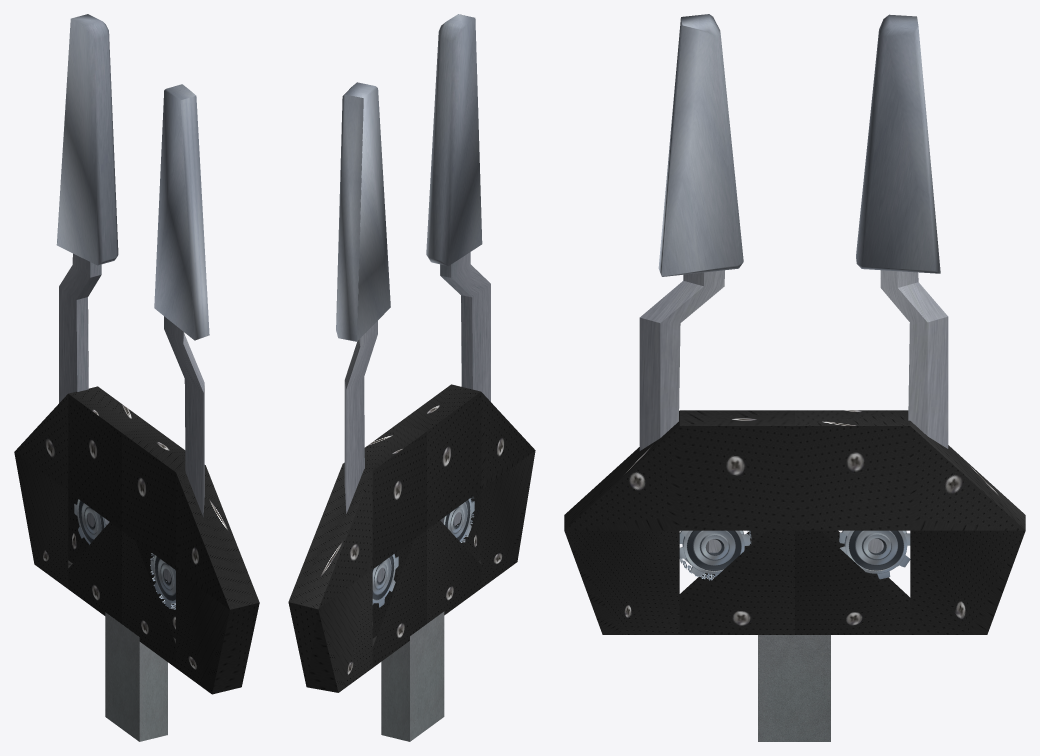
Rendered from FORCEPS.dae.
The picture shows the model from 3 angles, left to right: view 1: azimuth 30°, elevation 25°; view 2: azimuth 150°, elevation 25°; view 3: azimuth 270°, elevation 25°; orthographic projection. The views are drawn at different scales.
Visible parts, largest first — view 1: Cube_030, Cube_024, Cube_038, Cube_040, Cube_036, Cube_037, Cube_029, Cube_028; view 2: Cube_030, Cube_038, Cube_024, Cube_040, Cube_037, Cube_036, Cube_028, Cube_029; view 3: Cube_030, Cube_038, Cube_024, Cube_040, Cube_037, Cube_036, Cube_029, Cube_028.
Boxes of the visible parts, left/top/right/bottom form: Cube_030: left=14, top=386, right=259, bottom=694; Cube_024: left=56, top=14, right=118, bottom=265; Cube_038: left=154, top=84, right=209, bottom=340; Cube_040: left=105, top=612, right=167, bottom=741; Cube_036: left=59, top=253, right=109, bottom=526; Cube_037: left=163, top=316, right=204, bottom=582; Cube_029: left=150, top=553, right=175, bottom=609; Cube_028: left=74, top=499, right=106, bottom=544; Cube_030: left=288, top=384, right=535, bottom=692; Cube_038: left=426, top=14, right=482, bottom=266; Cube_024: left=336, top=82, right=390, bottom=341; Cube_040: left=381, top=611, right=444, bottom=741; Cube_037: left=440, top=252, right=490, bottom=525; Cube_036: left=344, top=321, right=384, bottom=582; Cube_028: left=372, top=554, right=398, bottom=607; Cube_029: left=443, top=496, right=474, bottom=542; Cube_030: left=564, top=410, right=1025, bottom=634; Cube_038: left=658, top=14, right=743, bottom=276; Cube_024: left=856, top=14, right=940, bottom=273; Cube_040: left=758, top=635, right=830, bottom=741; Cube_037: left=639, top=270, right=724, bottom=552; Cube_036: left=868, top=270, right=948, bottom=553; Cube_029: left=679, top=530, right=751, bottom=580; Cube_028: left=839, top=530, right=910, bottom=579.
Bounding box in the file's own units: 0.0851 × 1.07 × 1.83.
Materials: 8 (8 with a texture image).
